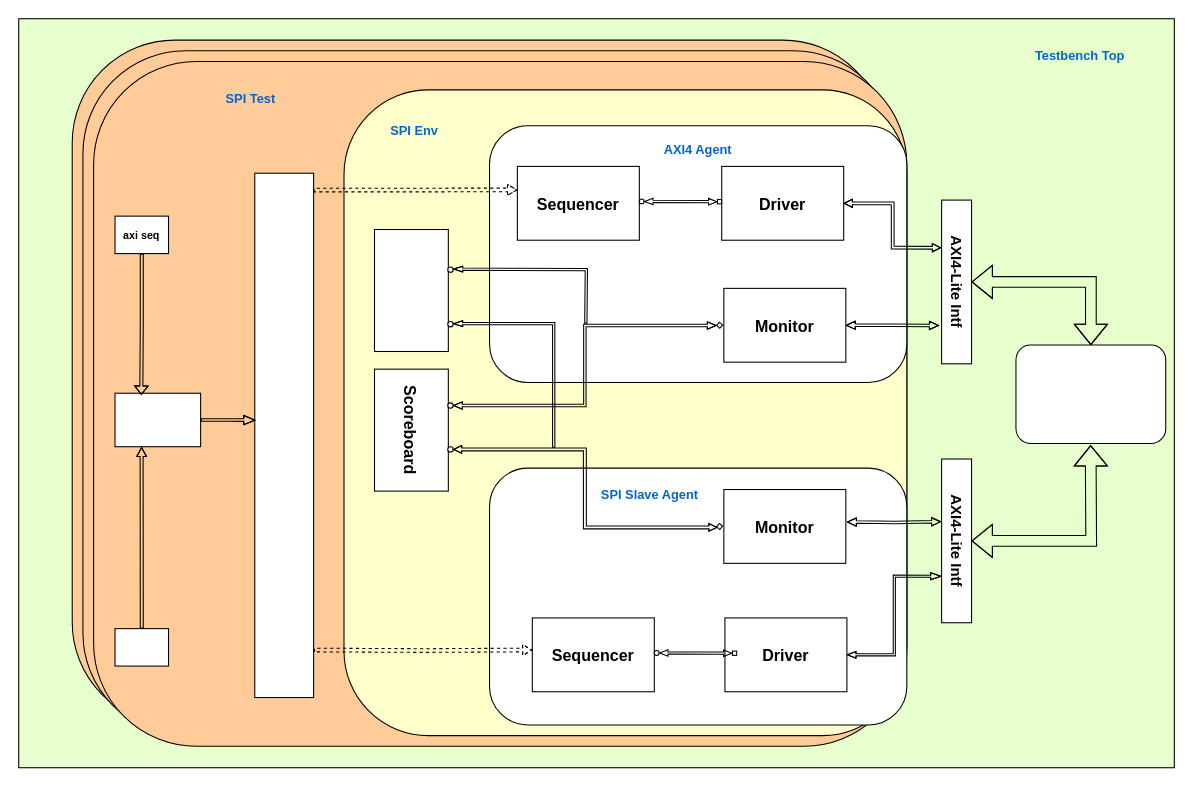
The diagram is 1193 pixels wide and 786 high, and some of its shapes have lost their labels. Here are the shapes that lost their labels. From the top down, the box of each, then its label:
(373, 228, 448, 351): Coverage
(1015, 344, 1166, 444): SPI IP DUT
(114, 392, 201, 447): virtual seq
(254, 172, 314, 698): virtual Sequencer
(114, 628, 169, 666): spi slave seq
